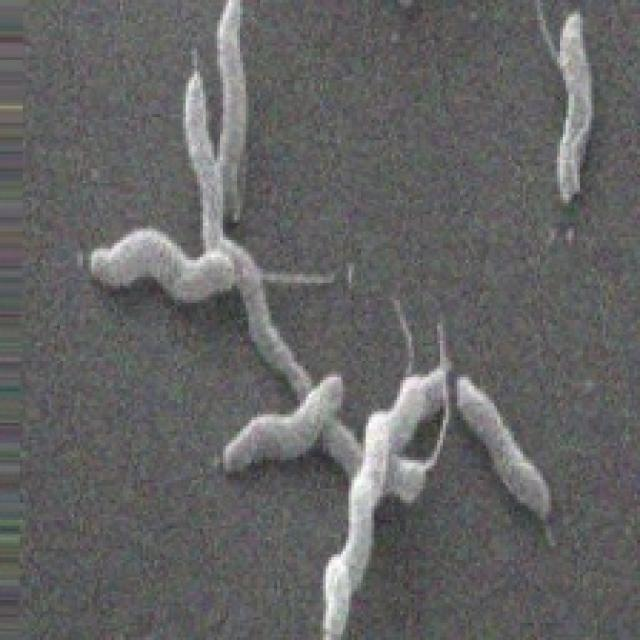Spiral_bacteria: (61, 25, 551, 640)
